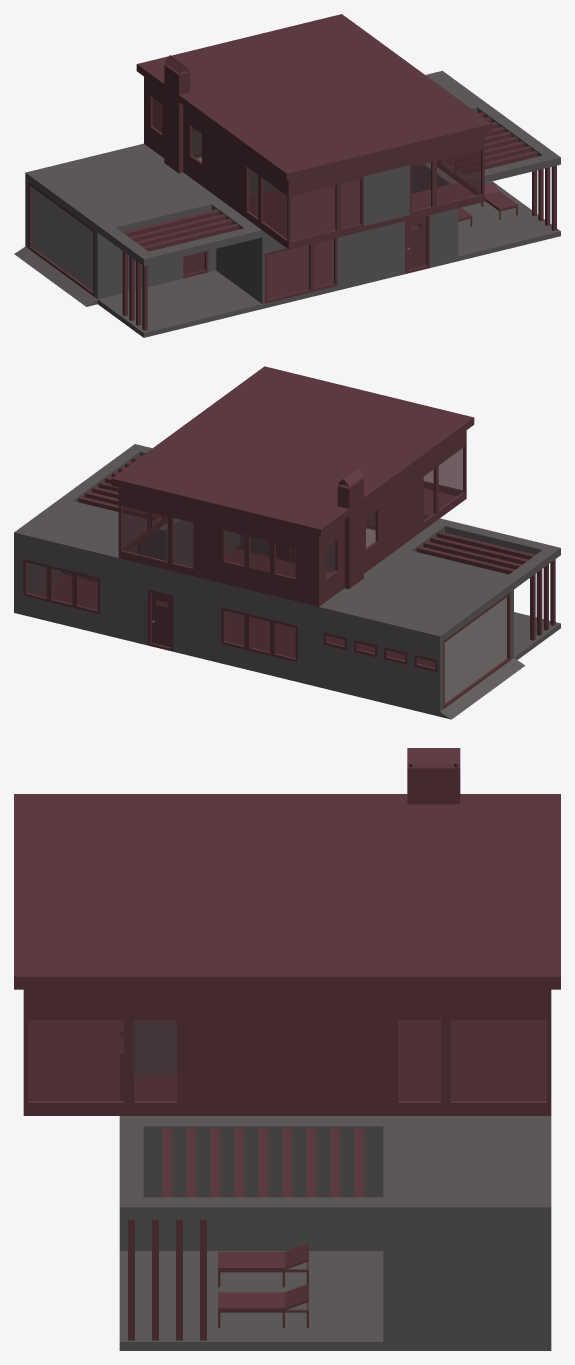
Rendered from building-house-modern-big.fbx.
3 renders of one model, top to bottom at view 1: azimuth 30°, elevation 25°; view 2: azimuth 150°, elevation 25°; view 3: azimuth 270°, elevation 25°, orthographic. The views are drawn at different scales.
Visible parts, largest first — view 1: building-house-modern-big; view 2: building-house-modern-big; view 3: building-house-modern-big.
Boxes of the visible parts, box(x1,y1,x2,y2) form: building-house-modern-big: box(14, 14, 560, 337); building-house-modern-big: box(14, 366, 560, 719); building-house-modern-big: box(14, 748, 560, 1350).
Bounding box in the file's own units: 18.8 × 7.77 × 11.4.
